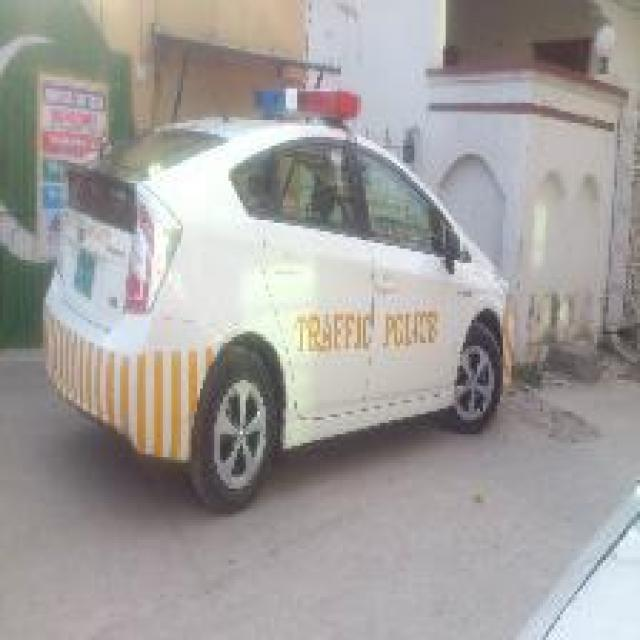emergency: (38, 92, 514, 512)
